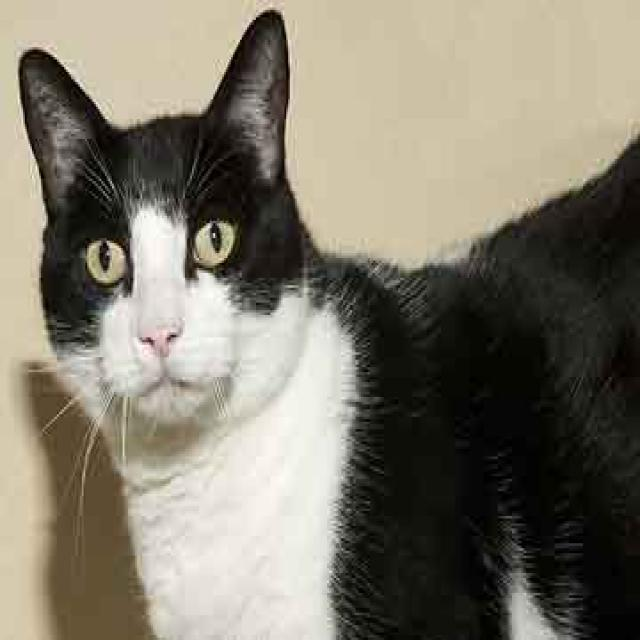Cats: (16, 8, 638, 638)
